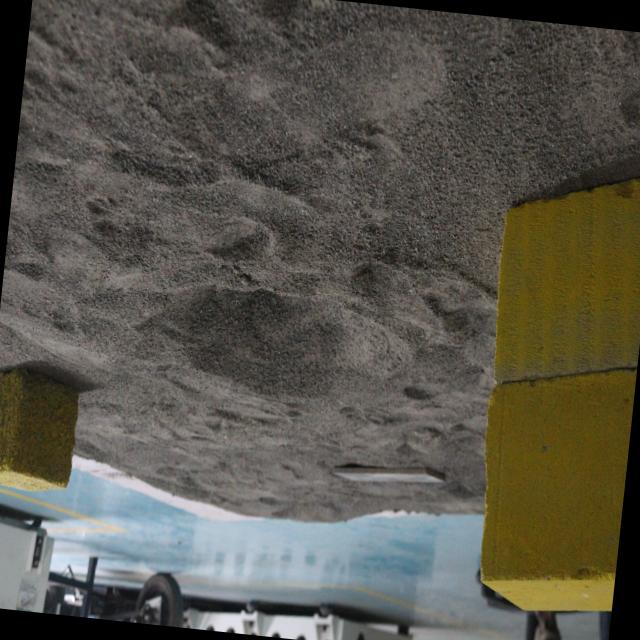box: (457, 143, 640, 610), (0, 361, 85, 502)
crater: (120, 266, 416, 422)
